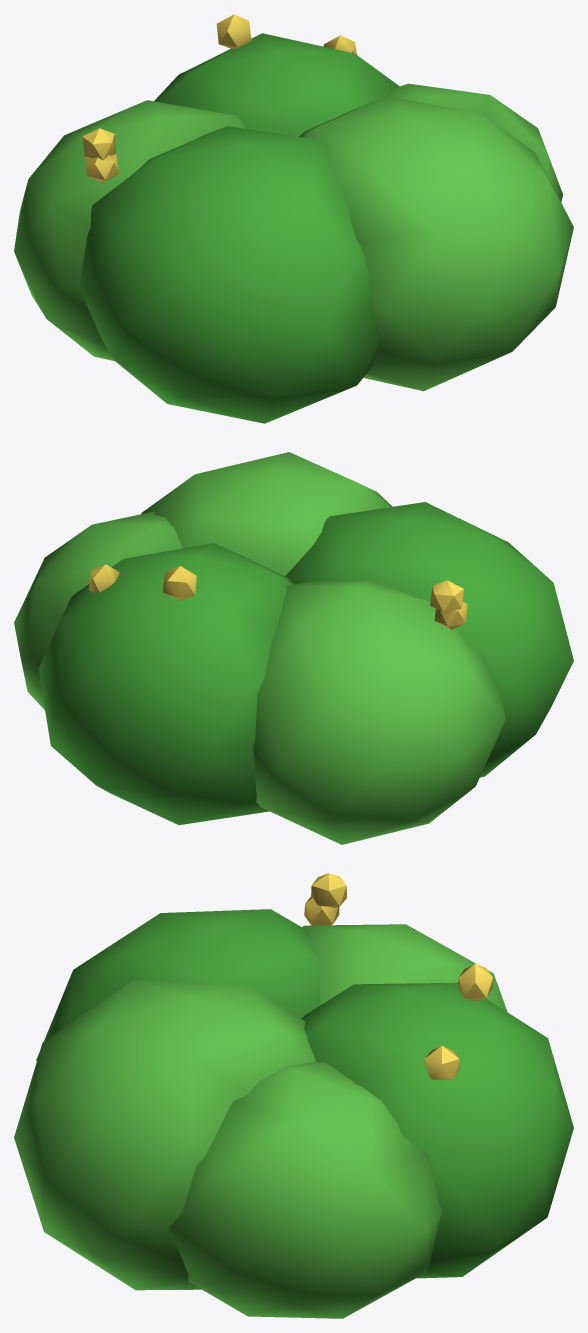
Rendered from md_bush.glb.
The picture shows the model from 3 angles, top to bottom: view 1: azimuth 30°, elevation 25°; view 2: azimuth 150°, elevation 25°; view 3: azimuth 270°, elevation 25°; orthographic projection. The views are drawn at different scales.
Parts seen in each view (by area): view 1: bush; view 2: bush; view 3: bush.
Part boxes in pixels (box(x1,y1,x2,y2)): bush: box(14, 14, 573, 423); bush: box(14, 452, 573, 844); bush: box(14, 873, 573, 1318).
Bounding box in the file's own units: 2.31 × 1.27 × 2.16.
